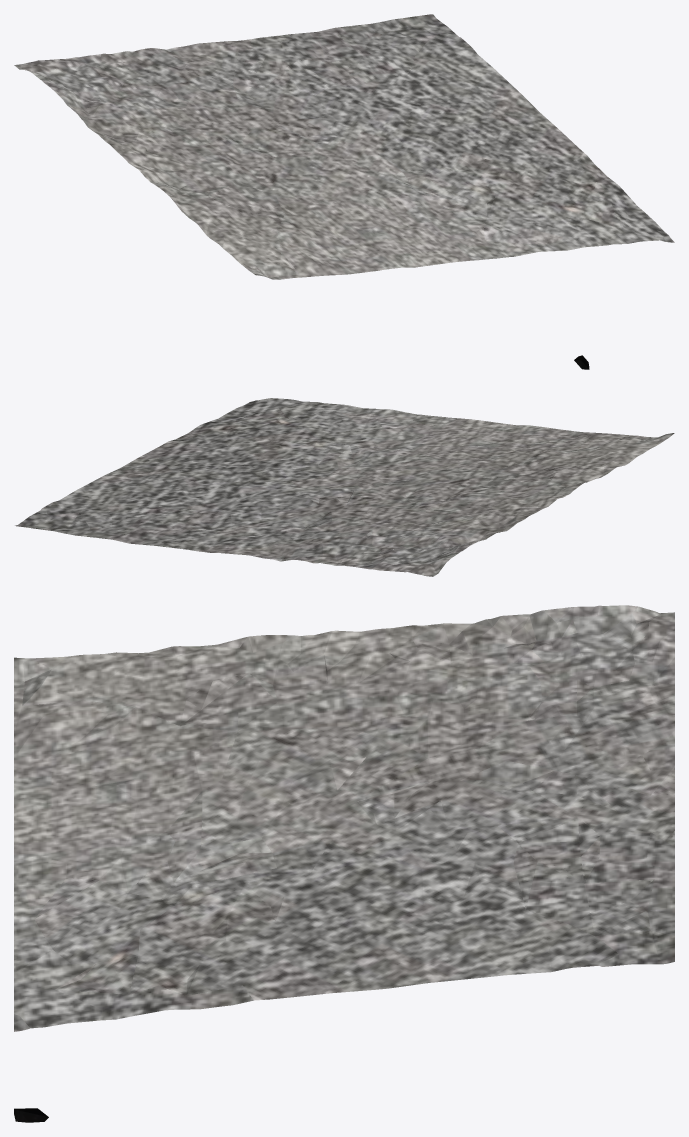
3 views of the same model, one above another, from view 1: azimuth 30°, elevation 25°; view 2: azimuth 150°, elevation 25°; view 3: azimuth 270°, elevation 25° (orthographic). The views are drawn at different scales.
Bounding box in the file's own units: 0.8374 × 0.4146 × 0.8374.
Materials: 2 (2 with a texture image).
